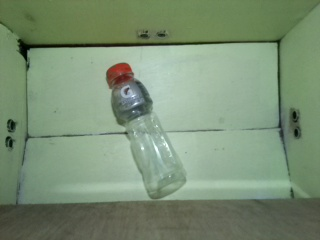bottle: (103, 61, 189, 199)
